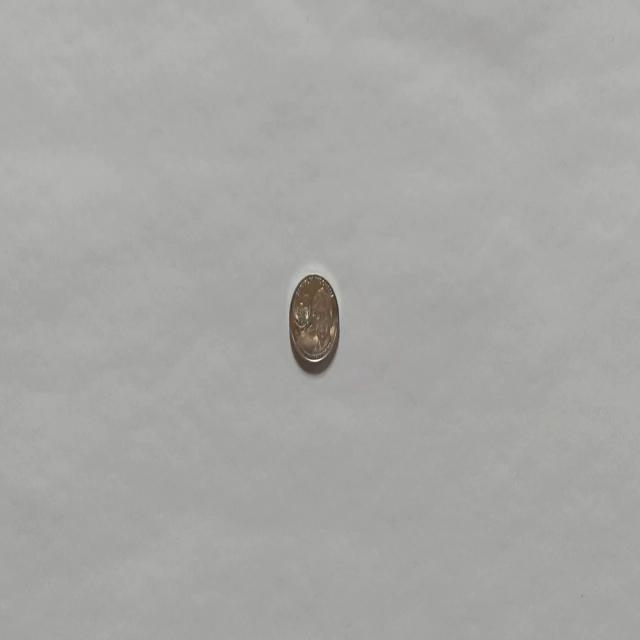dua ratus rupiah: (288, 271, 340, 370)
